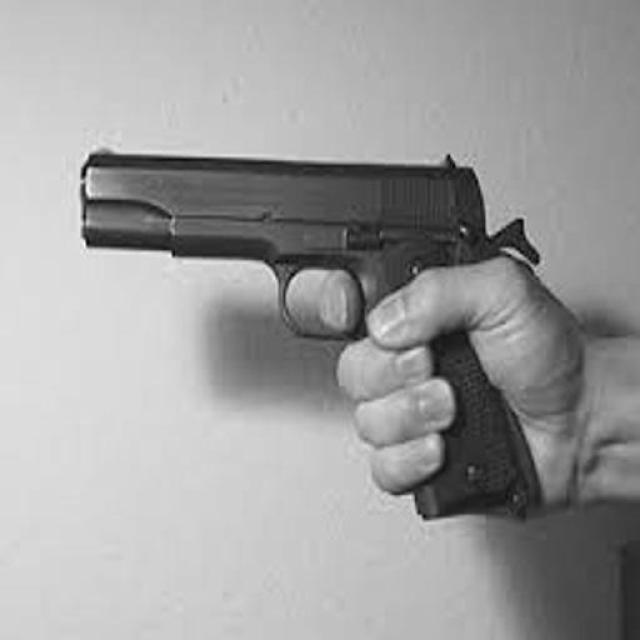pistol: (75, 131, 551, 523)
